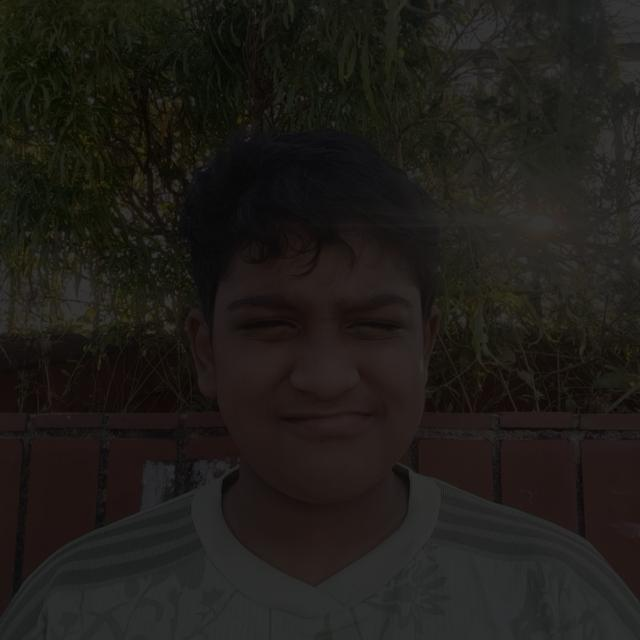Disgust: (165, 170, 482, 533)
